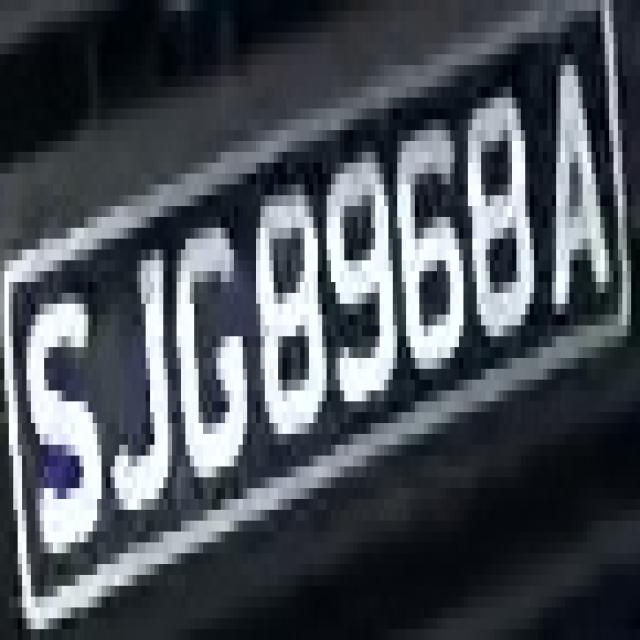6: (384, 76, 472, 401)
8: (243, 162, 344, 456), (450, 87, 539, 358)
9: (309, 130, 406, 423)
A: (534, 44, 609, 347)
G: (159, 217, 251, 499)
J: (101, 206, 181, 553)
S: (9, 260, 110, 586)
